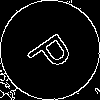P: (25, 25, 82, 79)
